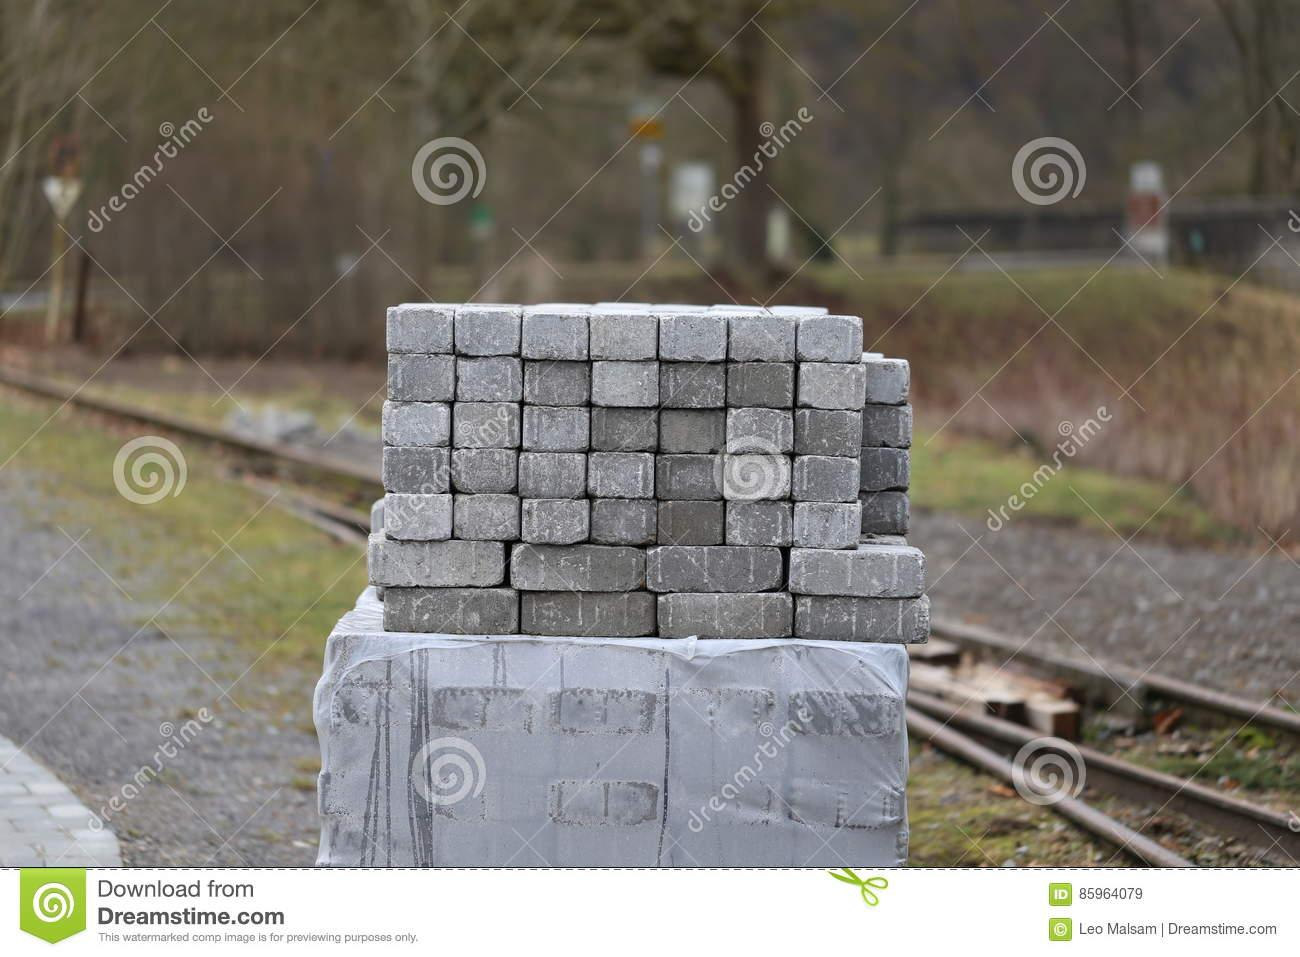brick: (788, 547, 927, 597), (367, 539, 505, 586), (510, 543, 644, 591), (795, 597, 930, 644), (384, 588, 518, 634), (658, 593, 793, 638), (647, 546, 781, 592), (522, 593, 654, 636), (796, 363, 866, 411), (389, 353, 455, 402), (659, 313, 727, 360), (795, 409, 863, 456), (383, 446, 450, 494), (385, 494, 452, 541), (521, 499, 589, 545), (793, 503, 862, 549), (387, 306, 453, 353), (522, 313, 588, 360), (383, 400, 450, 446), (792, 455, 860, 502), (456, 308, 522, 355), (729, 315, 795, 361), (523, 406, 589, 452), (724, 454, 790, 501), (589, 314, 657, 359), (519, 452, 586, 498), (797, 315, 863, 361), (591, 360, 658, 406), (727, 409, 793, 454), (655, 455, 723, 500), (660, 362, 726, 408), (453, 403, 519, 448), (588, 452, 654, 497), (727, 501, 792, 545), (727, 363, 793, 407), (454, 494, 518, 539), (591, 499, 656, 543), (657, 501, 722, 545), (456, 357, 522, 401), (524, 361, 589, 405), (592, 408, 658, 451), (660, 411, 725, 453), (452, 449, 515, 493), (861, 447, 910, 492), (864, 405, 912, 447), (861, 492, 909, 534), (863, 359, 909, 403)
